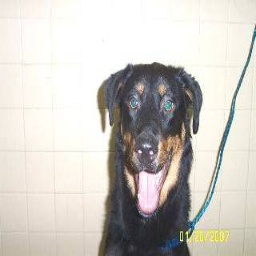dog: (90, 57, 205, 256)
